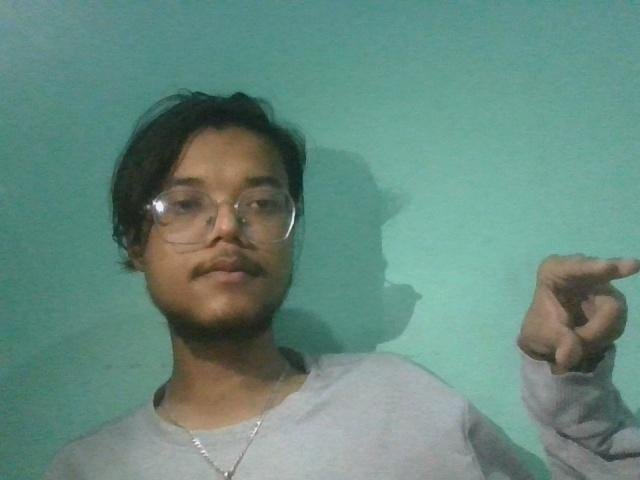No: (487, 235, 639, 397)
